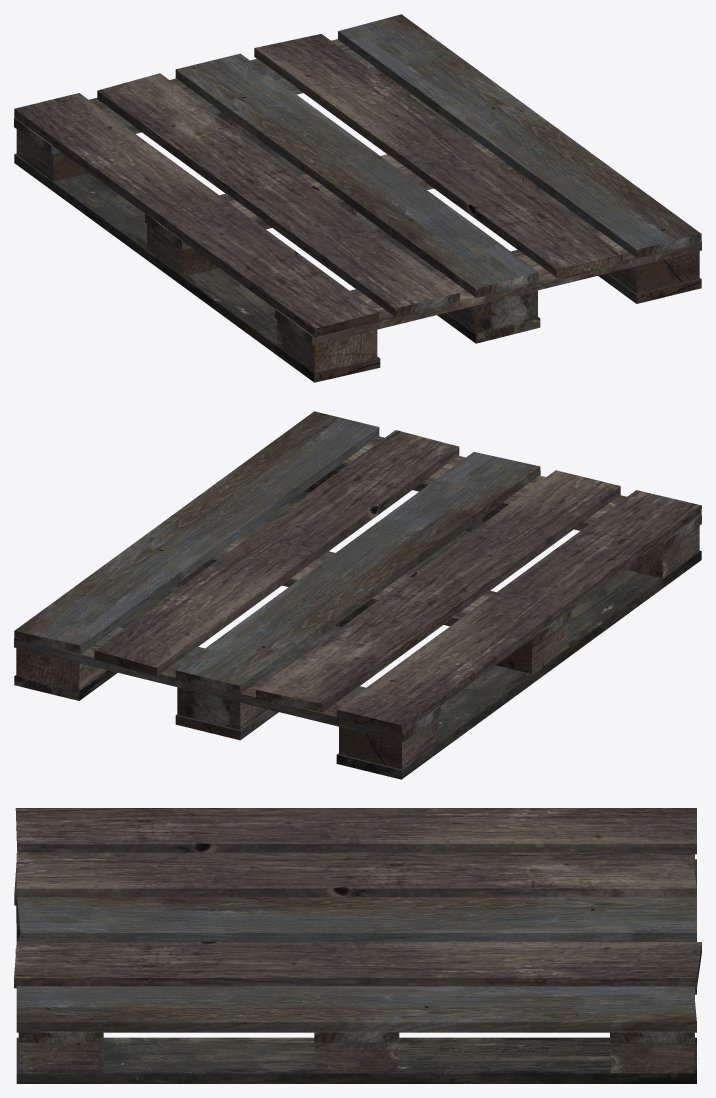
Rendered from poddon.FBX.
3 renders of one model, top to bottom at view 1: azimuth 30°, elevation 25°; view 2: azimuth 150°, elevation 25°; view 3: azimuth 270°, elevation 25°, orthographic. The views are drawn at different scales.
Visible parts, largest first — view 1: poddon; view 2: poddon; view 3: poddon.
Part boxes in pixels (x1=…): poddon: x1=14, y1=14, x2=701, y2=382; poddon: x1=14, y1=411, x2=701, y2=779; poddon: x1=14, y1=808, x2=701, y2=1083.
Bounding box in the file's own units: 1.22 × 0.162 × 1.64.
